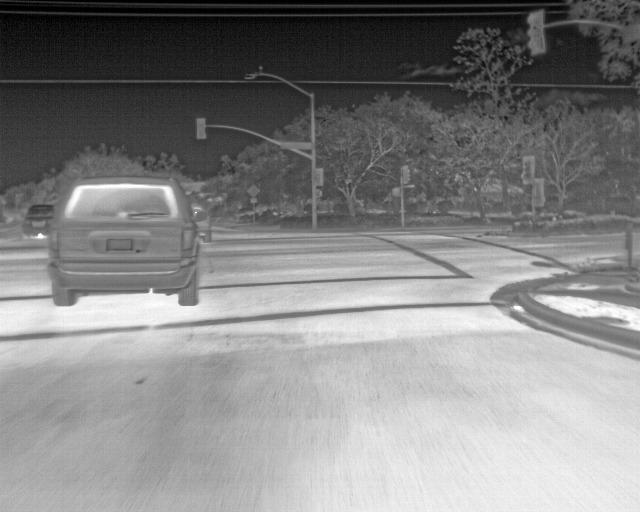car: (48, 176, 208, 306), (23, 204, 55, 240), (190, 203, 212, 243)
light: (528, 13, 542, 50), (524, 159, 532, 181), (197, 120, 205, 137), (316, 169, 322, 186), (404, 167, 410, 183), (393, 188, 400, 196), (317, 190, 322, 196)
sign: (281, 142, 312, 149), (534, 180, 542, 202), (247, 185, 260, 197), (251, 199, 257, 203), (404, 185, 414, 187)
